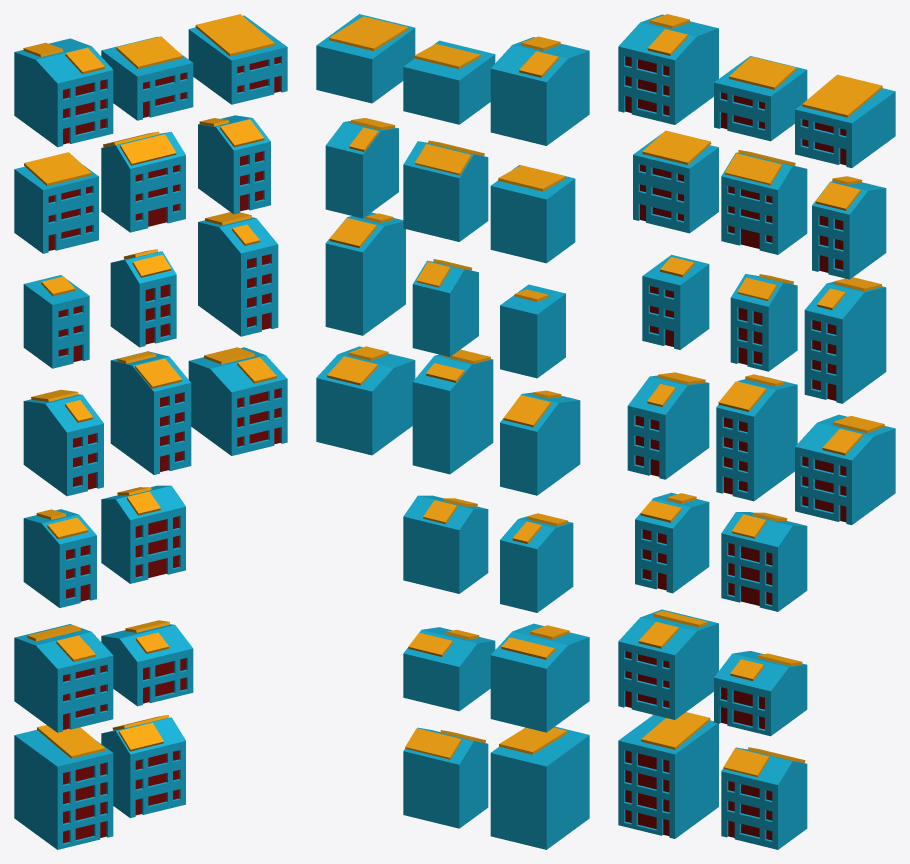
Rendered from Ghost.gltf.
3 views of the same model, side by side, from view 1: azimuth 30°, elevation 25°; view 2: azimuth 150°, elevation 25°; view 3: azimuth 330°, elevation 25° (orthographic).
Parts seen in each view (by area): view 1: Building_006, Building_005, Building_016, Building_000, Building_017, Building_010, Building_003, Building_011, Building_008, Building_001, Building_004, Building_013 (+33 smaller); view 2: Building_006, Building_000, Building_005, Building_010, Building_017, Building_016, Building_011, Building_013, Building_008, Building_001, Building_003, Building_015 (+20 smaller); view 3: Building_006, Building_016, Building_005, Building_000, Building_017, Building_010, Building_003, Building_013, Building_011, Building_008, Building_001, Building_004 (+33 smaller).
Boxes of the visible parts, left/top/right/bottom form: Building_006: left=14, top=729, right=113, bottom=849; Building_005: left=14, top=624, right=113, bottom=732; Building_016: left=198, top=217, right=278, bottom=336; Building_000: left=14, top=38, right=113, bottom=147; Building_017: left=188, top=347, right=287, bottom=455; Building_010: left=110, top=351, right=191, bottom=474; Building_003: left=23, top=394, right=103, bottom=496; Building_011: left=101, top=485, right=185, bottom=583; Building_008: left=101, top=131, right=185, bottom=232; Building_001: left=14, top=164, right=98, bottom=253; Building_004: left=23, top=509, right=96, bottom=607; Building_013: left=101, top=717, right=185, bottom=818; Building_006: left=490, top=726, right=589, bottom=849; Building_000: left=490, top=37, right=589, bottom=145; Building_005: left=490, top=623, right=589, bottom=732; Building_010: left=412, top=354, right=493, bottom=474; Building_017: left=316, top=346, right=415, bottom=455; Building_016: left=325, top=212, right=405, bottom=335; Building_011: left=403, top=495, right=488, bottom=593; Building_013: left=403, top=727, right=488, bottom=828; Building_008: left=403, top=141, right=488, bottom=241; Building_001: left=490, top=165, right=575, bottom=263; Building_003: left=500, top=392, right=580, bottom=495; Building_015: left=325, top=121, right=398, bottom=218; Building_006: left=618, top=715, right=718, bottom=838; Building_016: left=804, top=281, right=886, bottom=403; Building_005: left=618, top=609, right=718, bottom=719; Building_000: left=618, top=14, right=718, bottom=124; Building_017: left=795, top=414, right=895, bottom=524; Building_010: left=716, top=376, right=797, bottom=501; Building_003: left=627, top=375, right=709, bottom=479; Building_013: left=721, top=747, right=807, bottom=849; Building_011: left=721, top=512, right=807, bottom=611; Building_008: left=721, top=152, right=807, bottom=254; Building_001: left=633, top=133, right=718, bottom=233; Building_004: left=635, top=492, right=709, bottom=593.
Size of the model in its own units: 0.2011 by 0.6484 by 0.0652.
